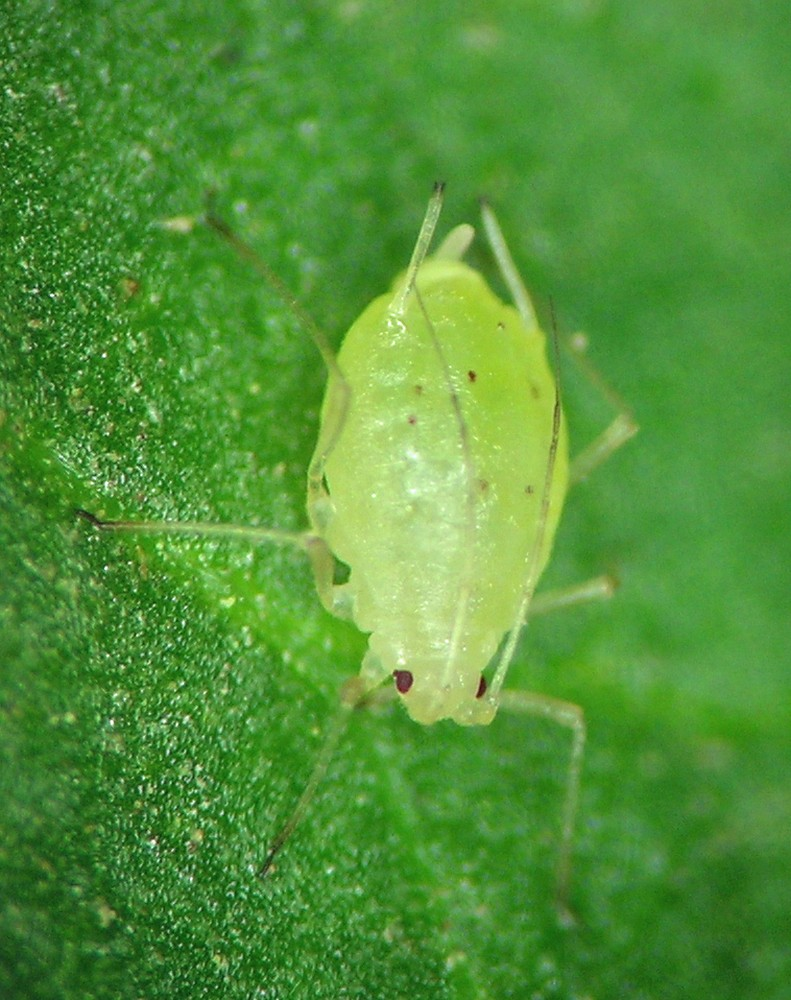Pulgon: (158, 173, 652, 880)
